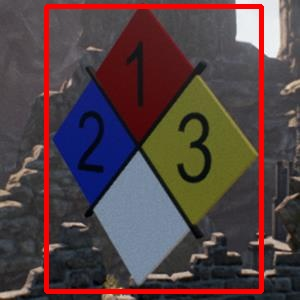nfpa: (46, 6, 261, 291)
